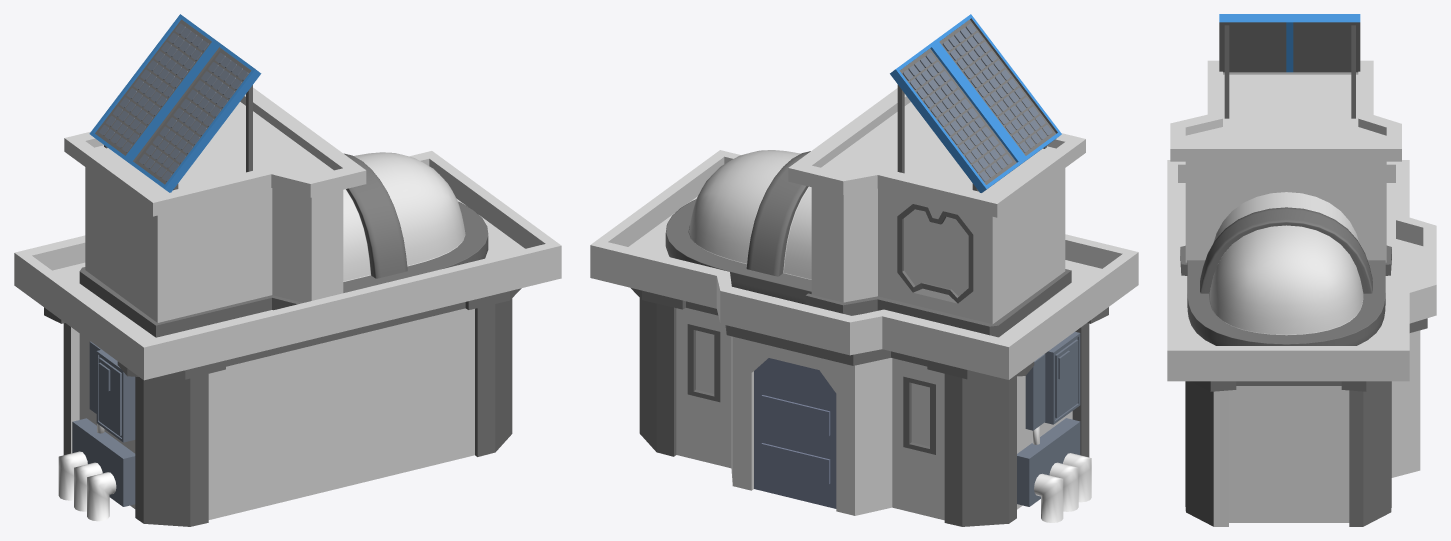
File: houseTall.fbx
The picture shows the model from 3 angles, left to right: view 1: azimuth 30°, elevation 25°; view 2: azimuth 150°, elevation 25°; view 3: azimuth 270°, elevation 25°; orthographic projection. The views are drawn at different scales.
Visible parts, largest first — view 1: Cube.001; view 2: Cube.001; view 3: Cube.001.
Boxes of the visible parts, box(x1,y1,x2,y2) form: Cube.001: box(14, 14, 561, 526); Cube.001: box(590, 14, 1138, 526); Cube.001: box(1167, 14, 1436, 526).
Bounding box in the file's own units: 754 × 740 × 446.
